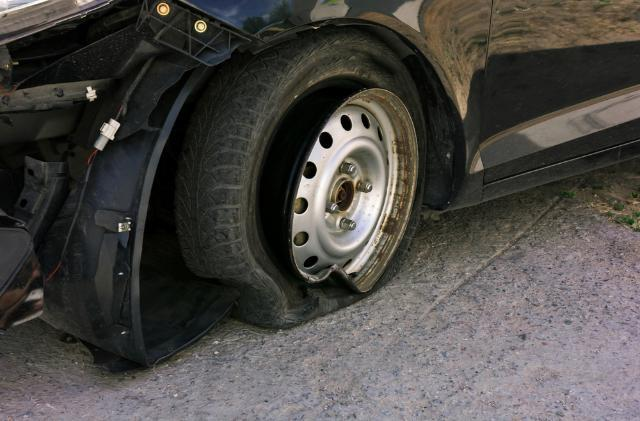no part: (2, 0, 259, 373)
tire flat: (175, 31, 430, 328)
